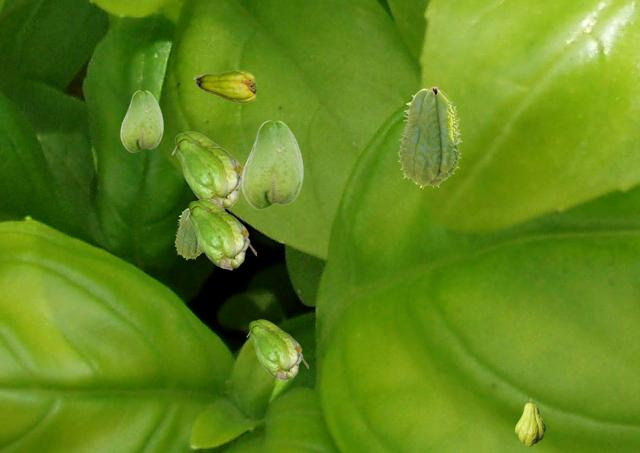sayote: (397, 86, 461, 188), (171, 131, 242, 209), (241, 120, 302, 208), (185, 199, 255, 269), (246, 319, 307, 380), (120, 90, 162, 151), (193, 70, 255, 102), (174, 208, 202, 259), (515, 398, 544, 445)
